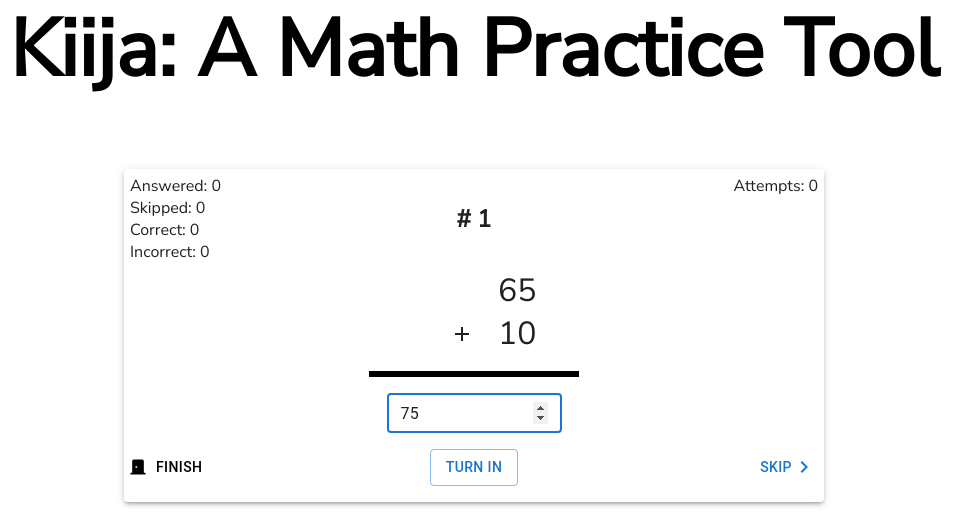
user gives a correct answer
Click the button "TURN IN": {"x": 474, "y": 467} [430,449,518,486]
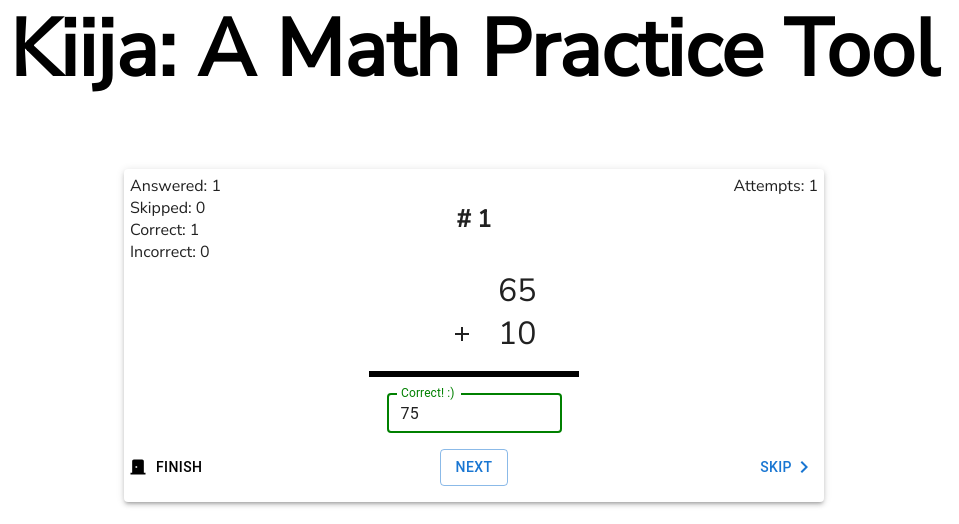
Expected: the number field labelled "Correct! :)" is shown, [386,393,562,433]
Result: the text "Correct: 1" is shown at [130,219,199,241]
